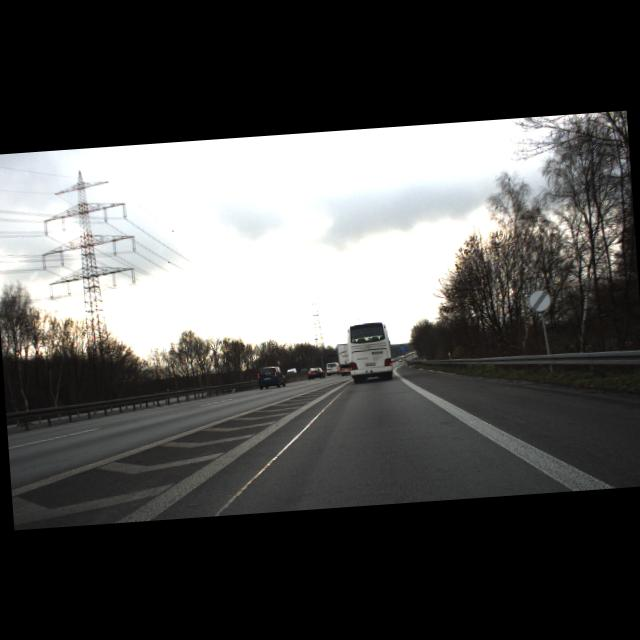other: (528, 288, 550, 311)
